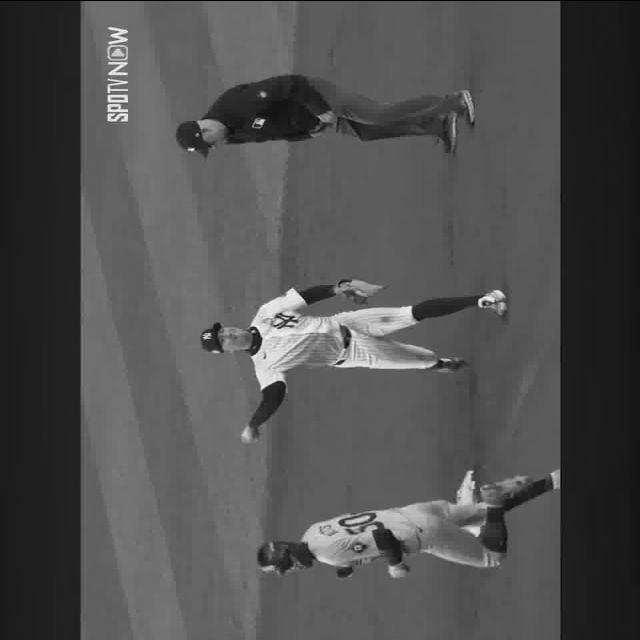base: (455, 469, 493, 504)
baseball_glove: (333, 278, 387, 304)
shoe: (457, 469, 530, 504), (437, 114, 458, 152), (478, 289, 507, 315), (458, 89, 475, 125), (430, 356, 470, 371)
